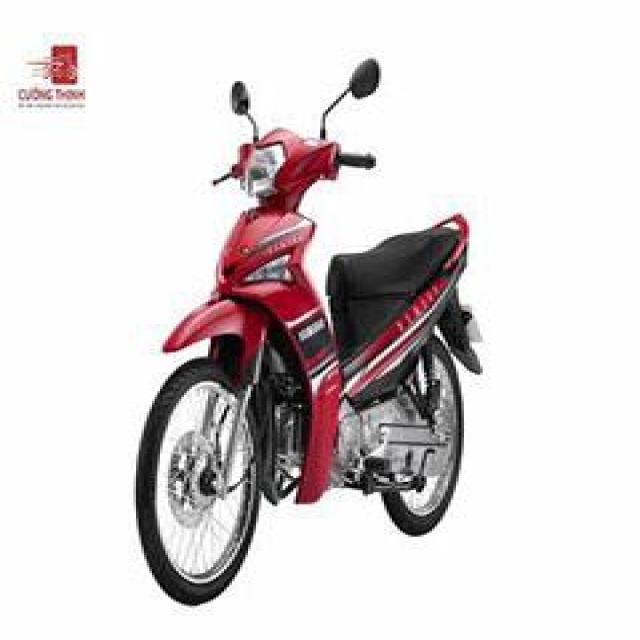motorcycle: (84, 35, 535, 623)
